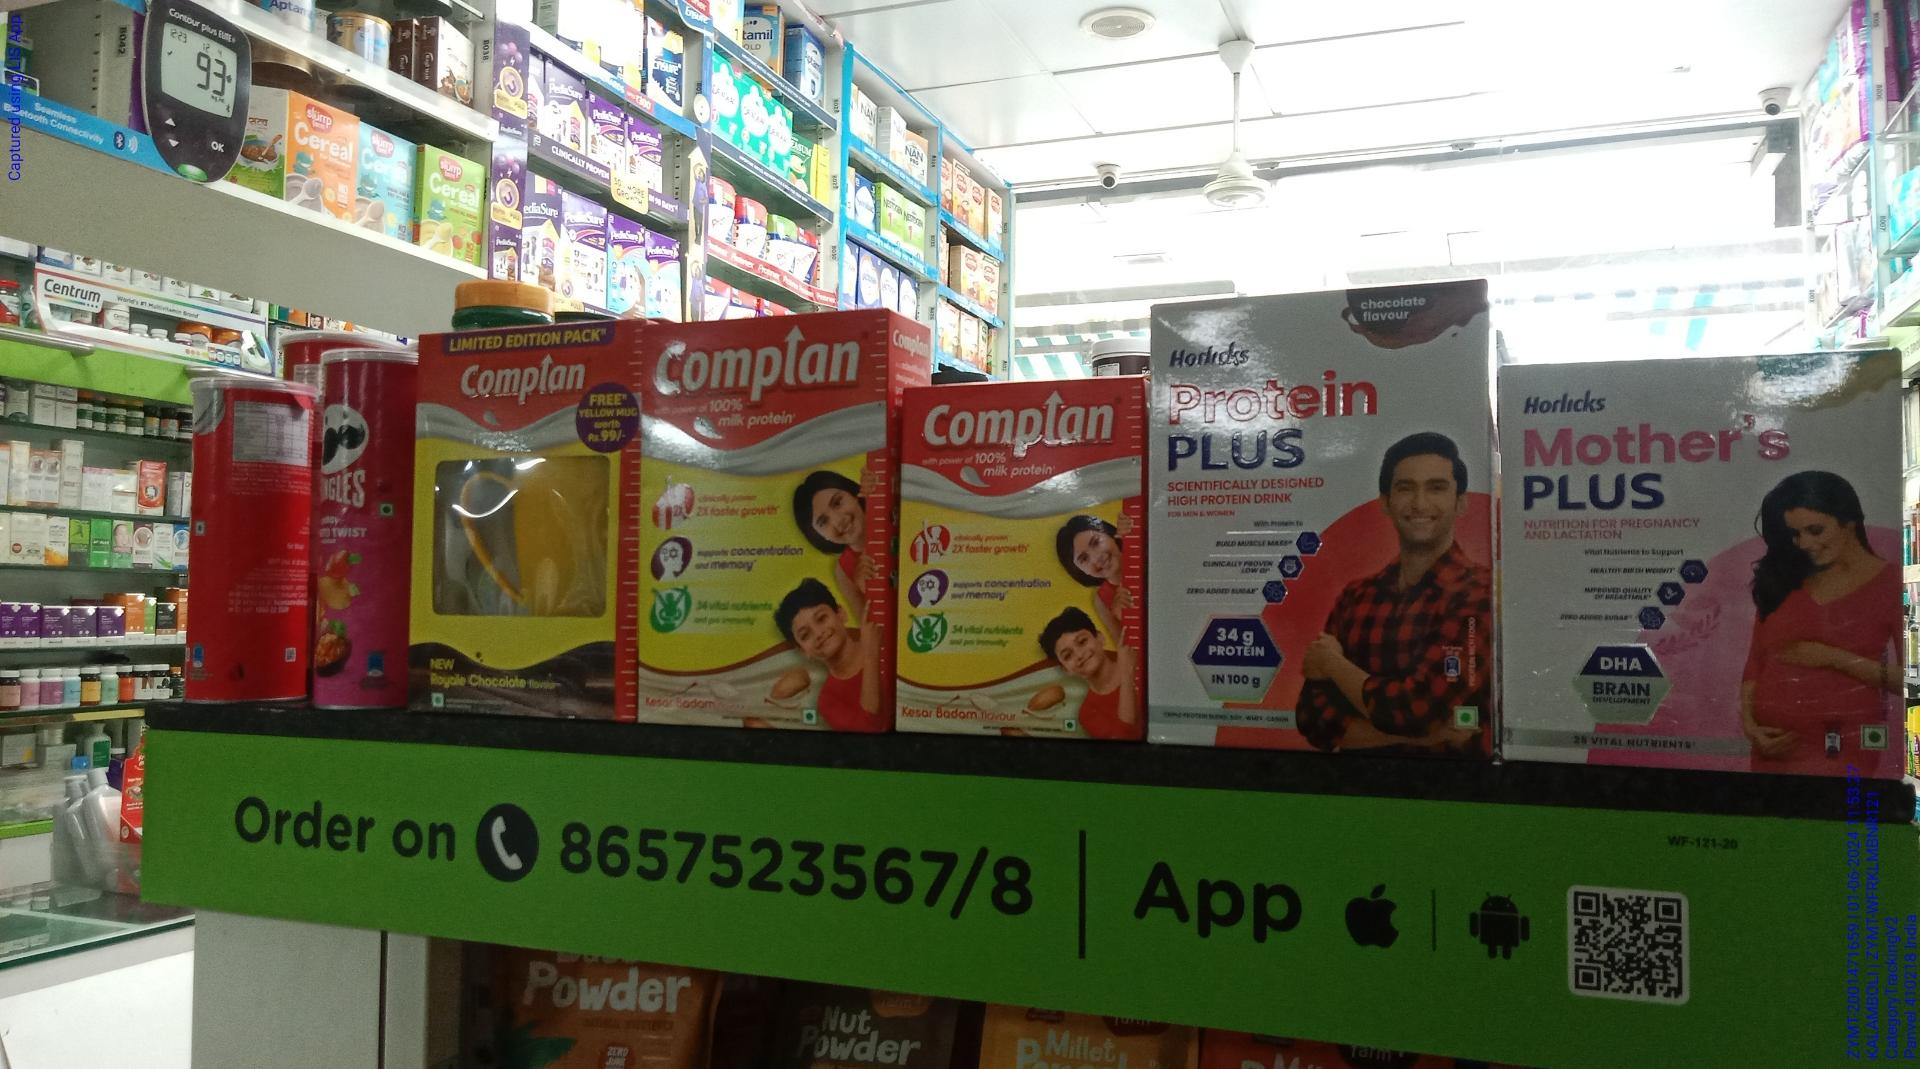COMPLAN_KESAR_BADAM_500_GMS_PACK: (646, 320, 895, 739)
